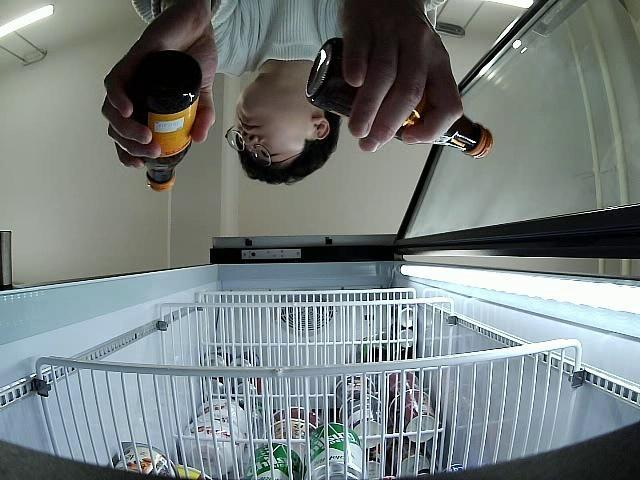17_vita500: (306, 36, 494, 160), (133, 50, 203, 192)
